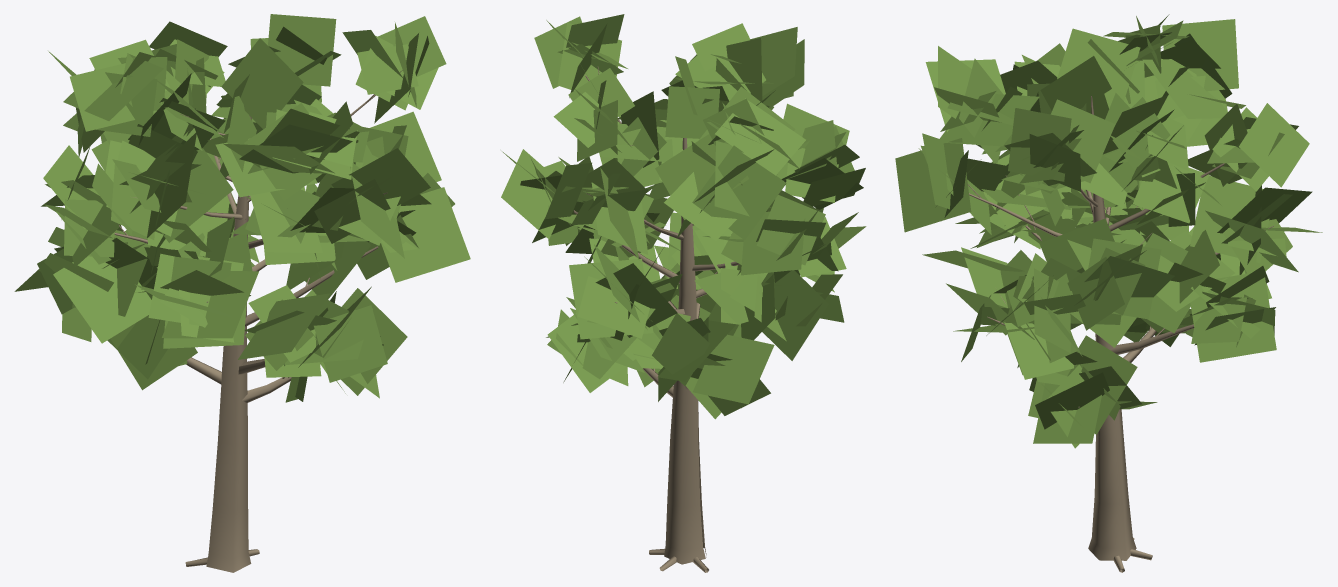
File: oak-2-lod2.glb
The picture shows the model from 3 angles, left to right: view 1: azimuth 30°, elevation 25°; view 2: azimuth 150°, elevation 25°; view 3: azimuth 270°, elevation 25°; orthographic projection. The views are drawn at different scales.
Parts seen in each view (by area): view 1: oak-2-lod2-foliage, oak-2-lod2-bark; view 2: oak-2-lod2-foliage, oak-2-lod2-bark; view 3: oak-2-lod2-foliage, oak-2-lod2-bark.
Boxes of the visible parts, x1,y1,x2,y2 form: oak-2-lod2-foliage: [14, 14, 470, 402]; oak-2-lod2-bark: [114, 70, 402, 572]; oak-2-lod2-foliage: [501, 14, 866, 419]; oak-2-lod2-bark: [573, 66, 739, 572]; oak-2-lod2-foliage: [895, 14, 1322, 448]; oak-2-lod2-bark: [968, 96, 1273, 572].
Bounding box in the file's own units: 18.53 × 25.44 × 19.3.
